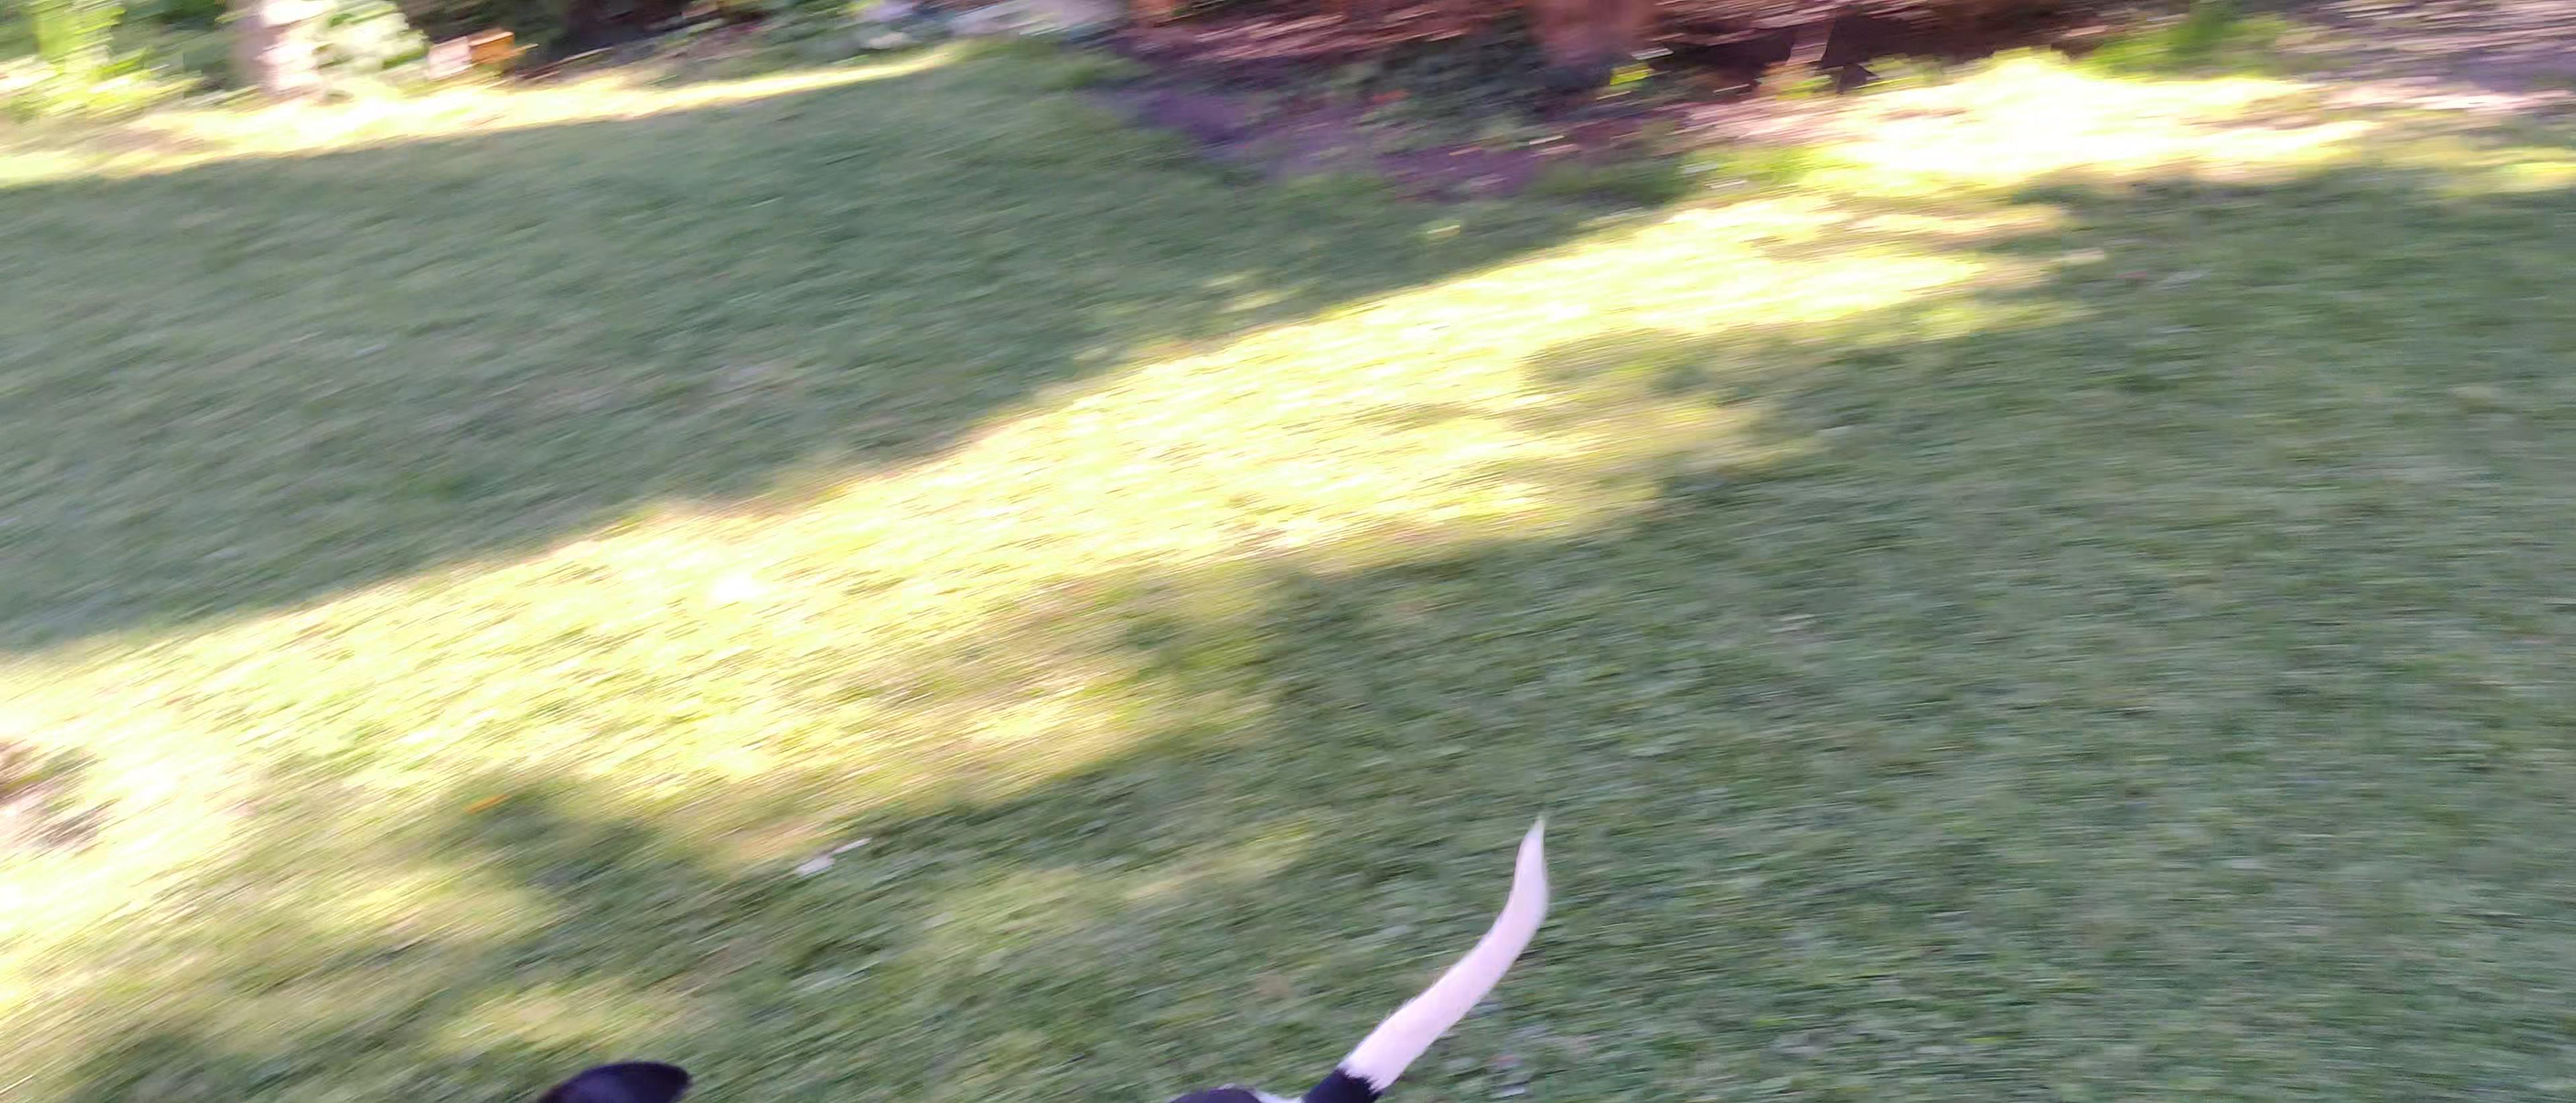Dog: (485, 789, 1561, 1103)
